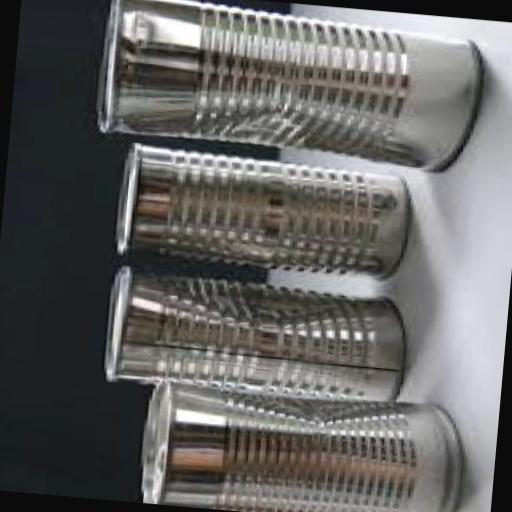metal: (93, 0, 486, 177), (134, 377, 467, 512), (104, 267, 412, 408), (114, 142, 412, 280)
